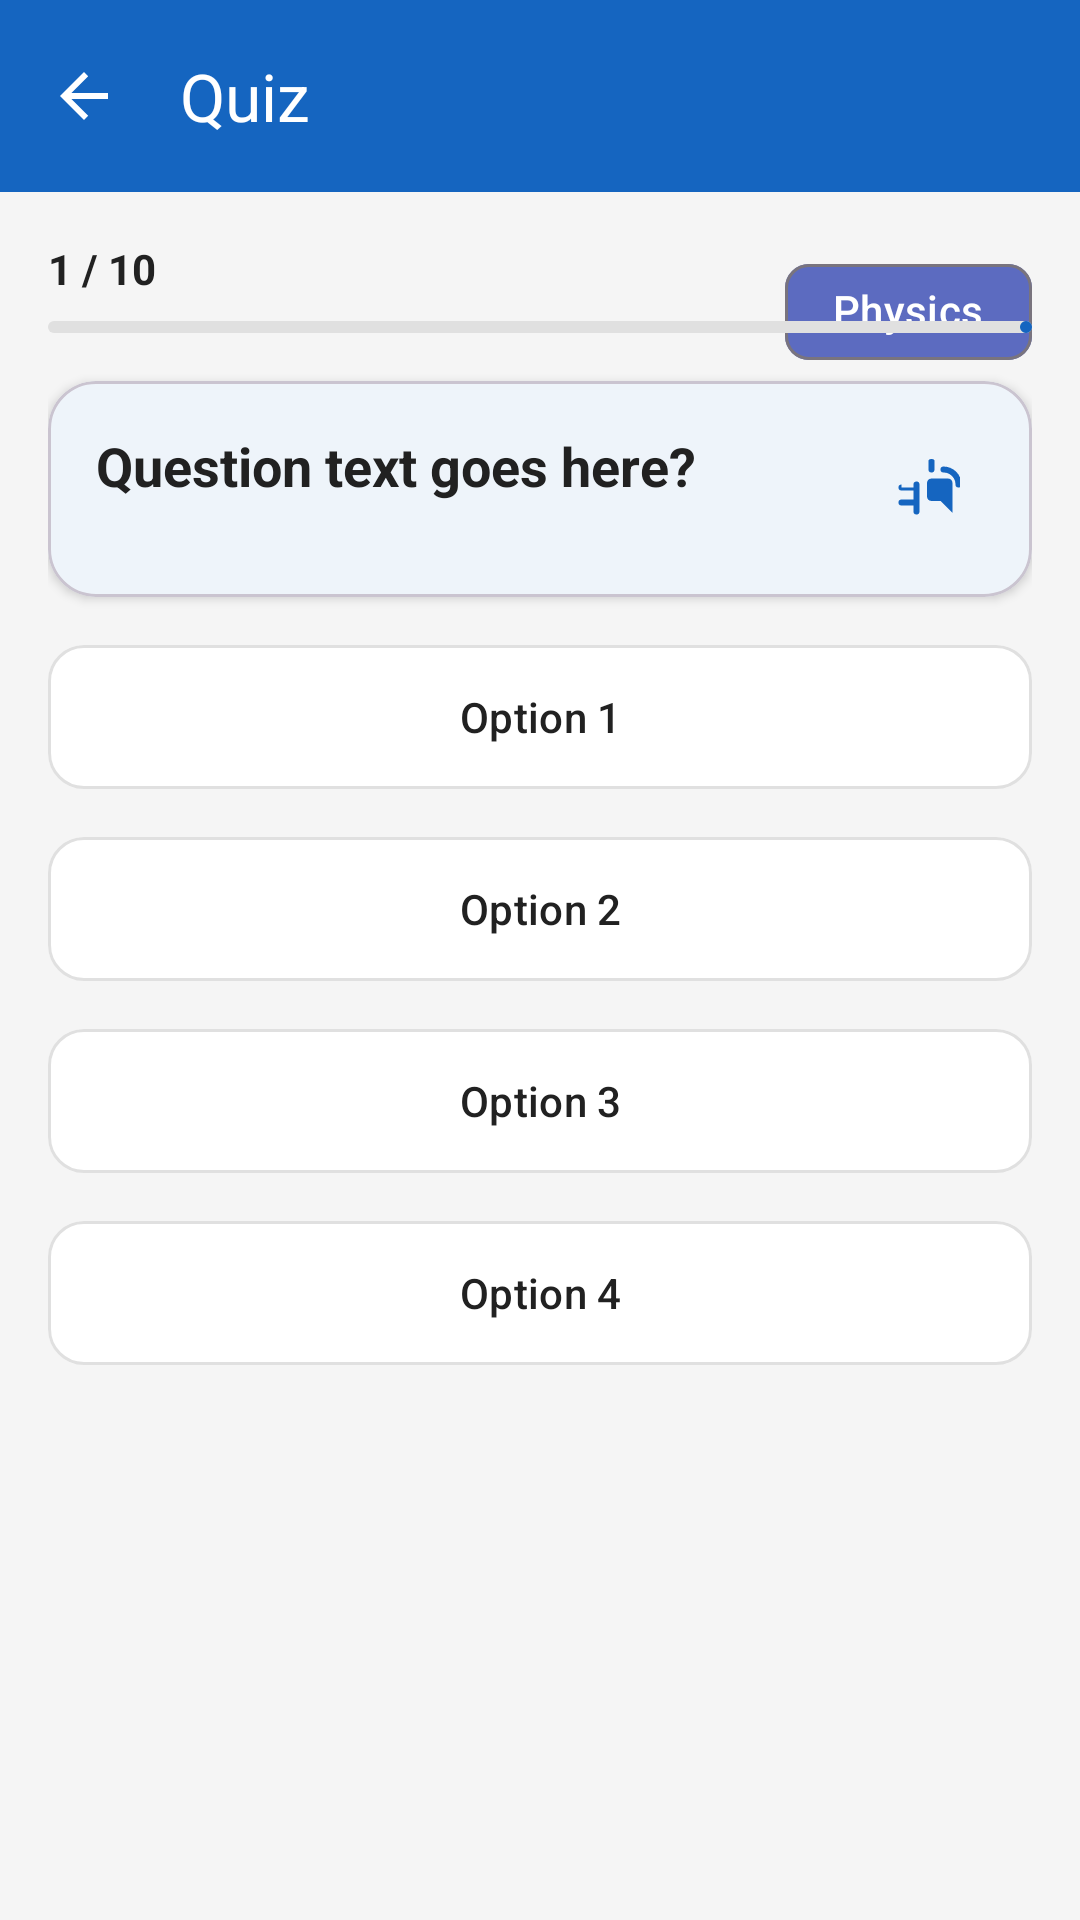

Where to tap for icons on this 1080w x 1920h app screen, as [x,y]:
Read question aloud: [929,487]
